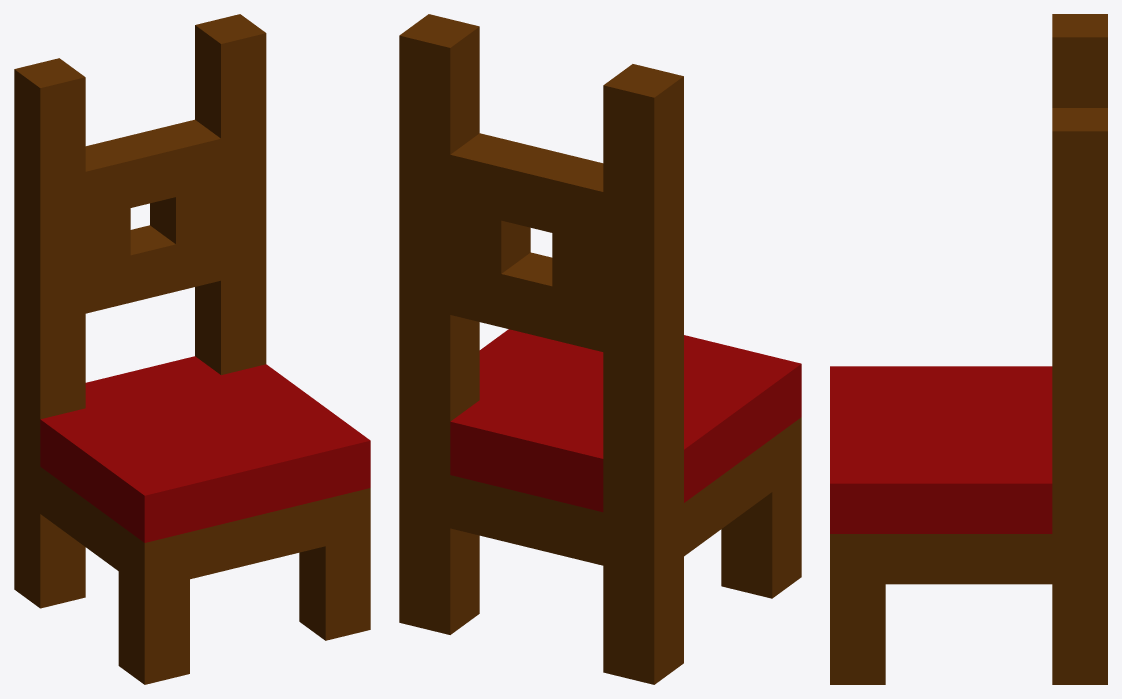
Rendered from chair_red.obj.
The picture shows the model from 3 angles, left to right: view 1: azimuth 30°, elevation 25°; view 2: azimuth 150°, elevation 25°; view 3: azimuth 270°, elevation 25°; orthographic projection. The views are drawn at different scales.
Visible parts, largest first — view 1: chair_red; view 2: chair_red; view 3: chair_red.
Part boxes in pixels (left/top/right/bottom): chair_red: left=14, top=14, right=370, bottom=684; chair_red: left=399, top=14, right=801, bottom=684; chair_red: left=830, top=14, right=1107, bottom=684.
Size of the model in its own units: 5 by 11 by 5.
Materials: 1 (1 with a texture image).
